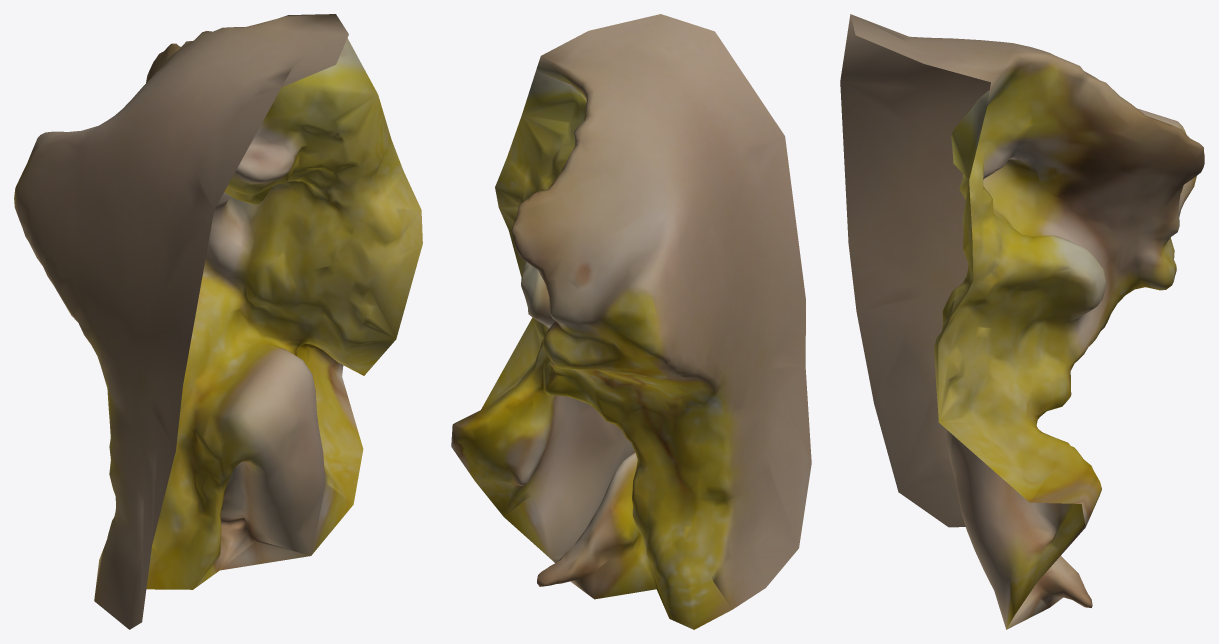
The model's file is ruth_corner1.OBJ.
3 views of the same model, side by side, from view 1: azimuth 30°, elevation 25°; view 2: azimuth 150°, elevation 25°; view 3: azimuth 270°, elevation 25° (orthographic). The views are drawn at different scales.
Visible parts, largest first — view 1: ruth_corner1; view 2: ruth_corner1; view 3: ruth_corner1.
Boxes of the visible parts, bbox=[...] form: ruth_corner1: bbox=[14, 14, 422, 629]; ruth_corner1: bbox=[451, 14, 811, 629]; ruth_corner1: bbox=[840, 14, 1204, 629].
Bounding box in the file's own units: 0.1147 × 0.2052 × 0.1152.
1 material, 1 textured.
